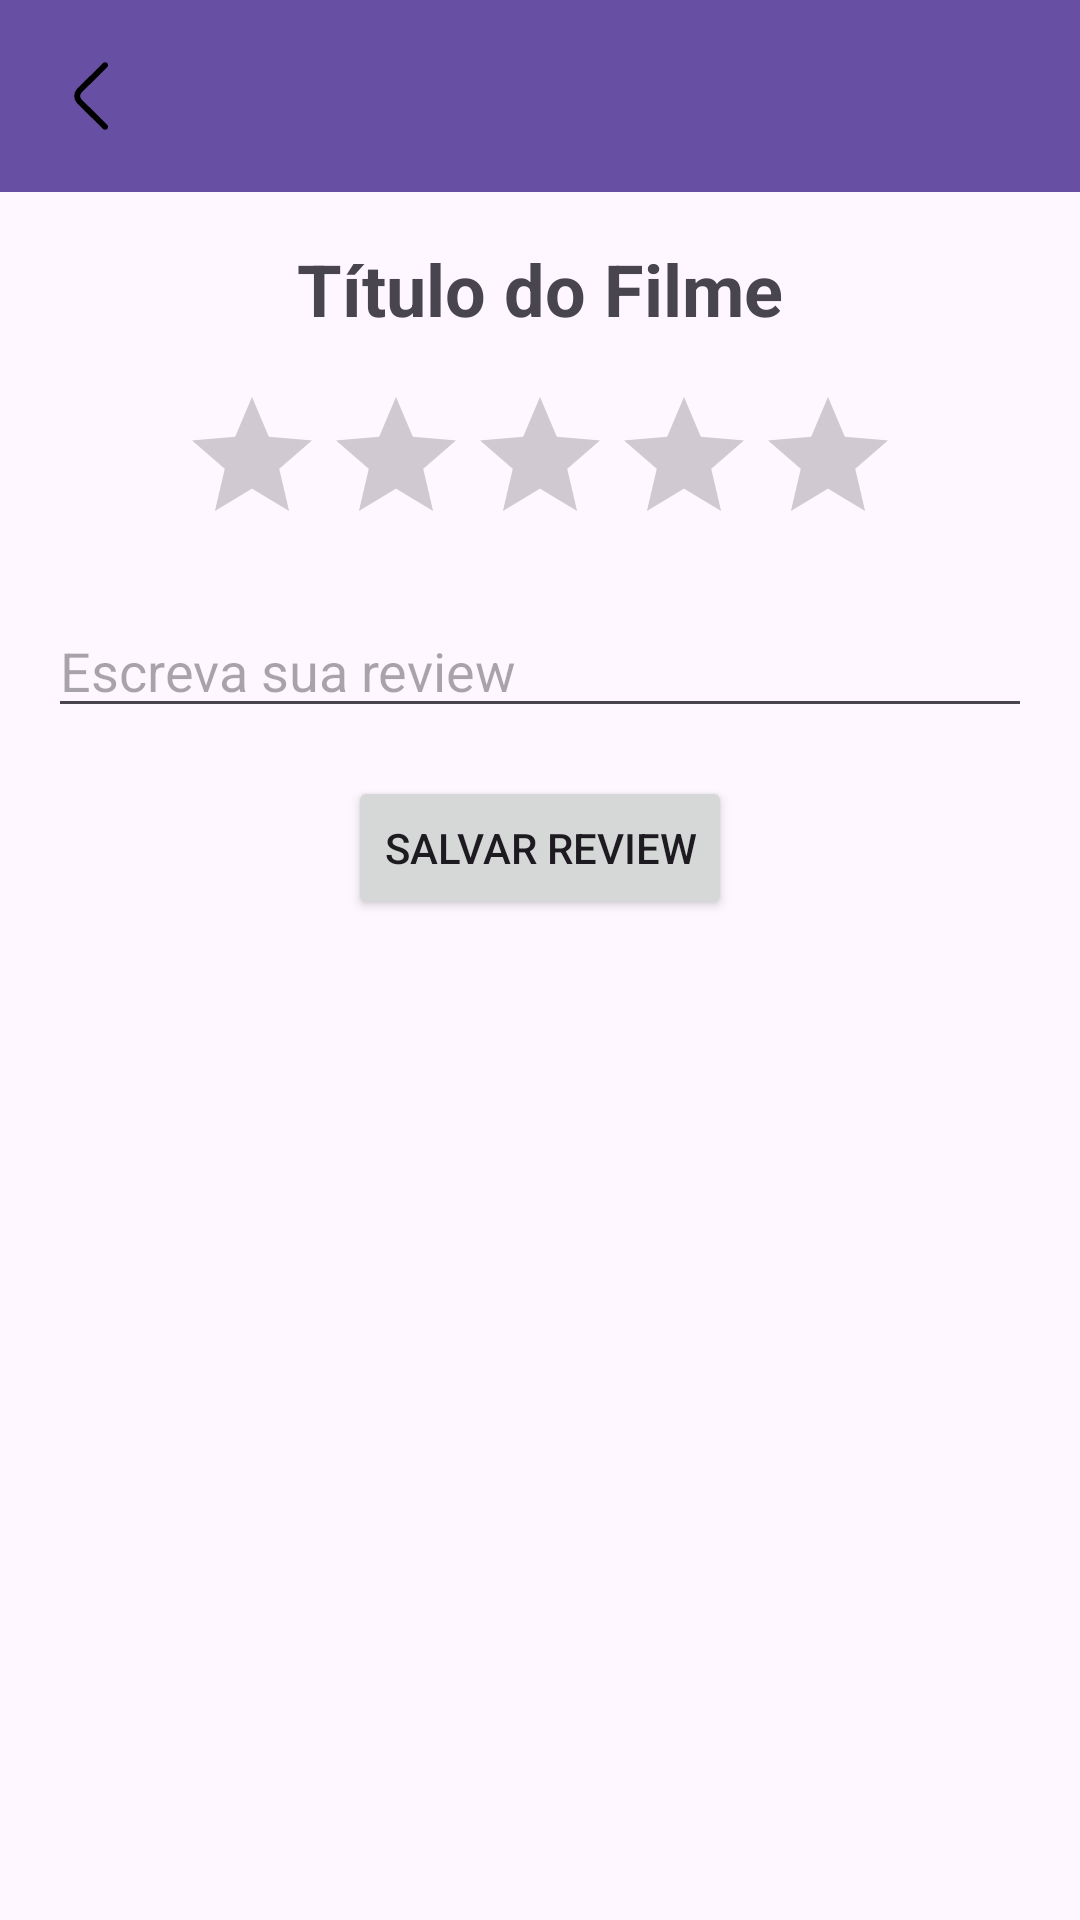

Icons on this 1080 x 1920 Android screen, each with the point to tap as [x,y]:
Back: [91,96]
